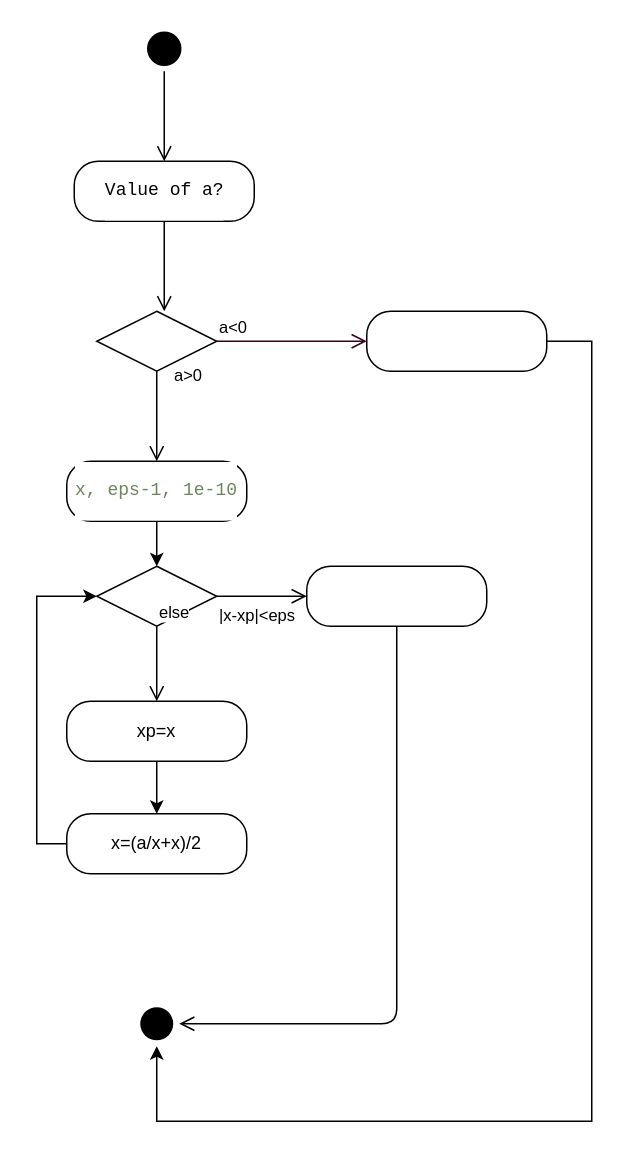
The diagram is 630 pixels wide and 1160 high, and some of its shapes have lost their labels. Here are the shapes that lost their labels. From the top down, the centre of each, then its label:
At pixel 456 340: "Error".
At pixel 396 595: "Print x".
